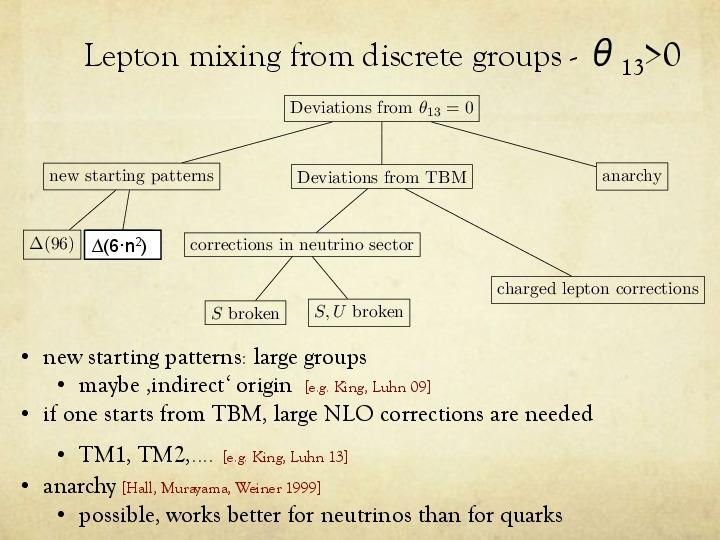paragraph: (15, 84, 710, 532)
title: (73, 23, 692, 86)
